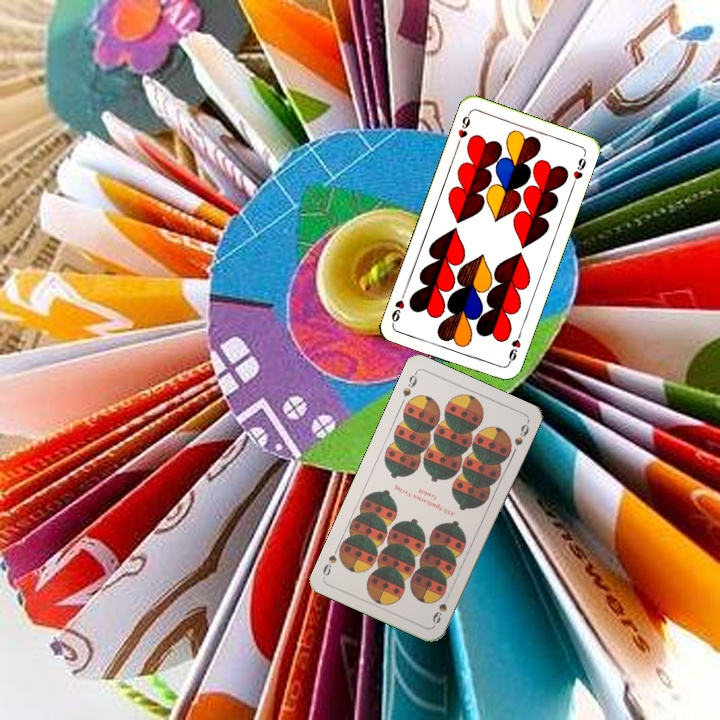H9: (453, 109, 473, 148), (504, 328, 524, 367)
S9: (428, 589, 453, 626), (398, 368, 420, 399)
